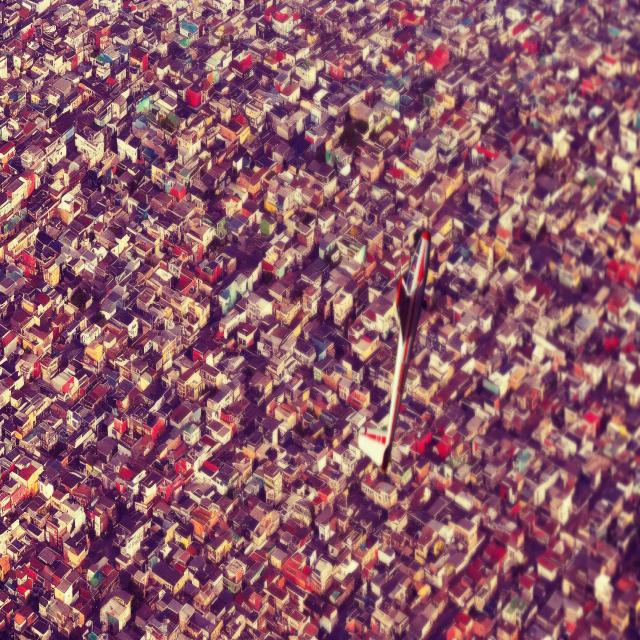airplane: (357, 226, 431, 473)
